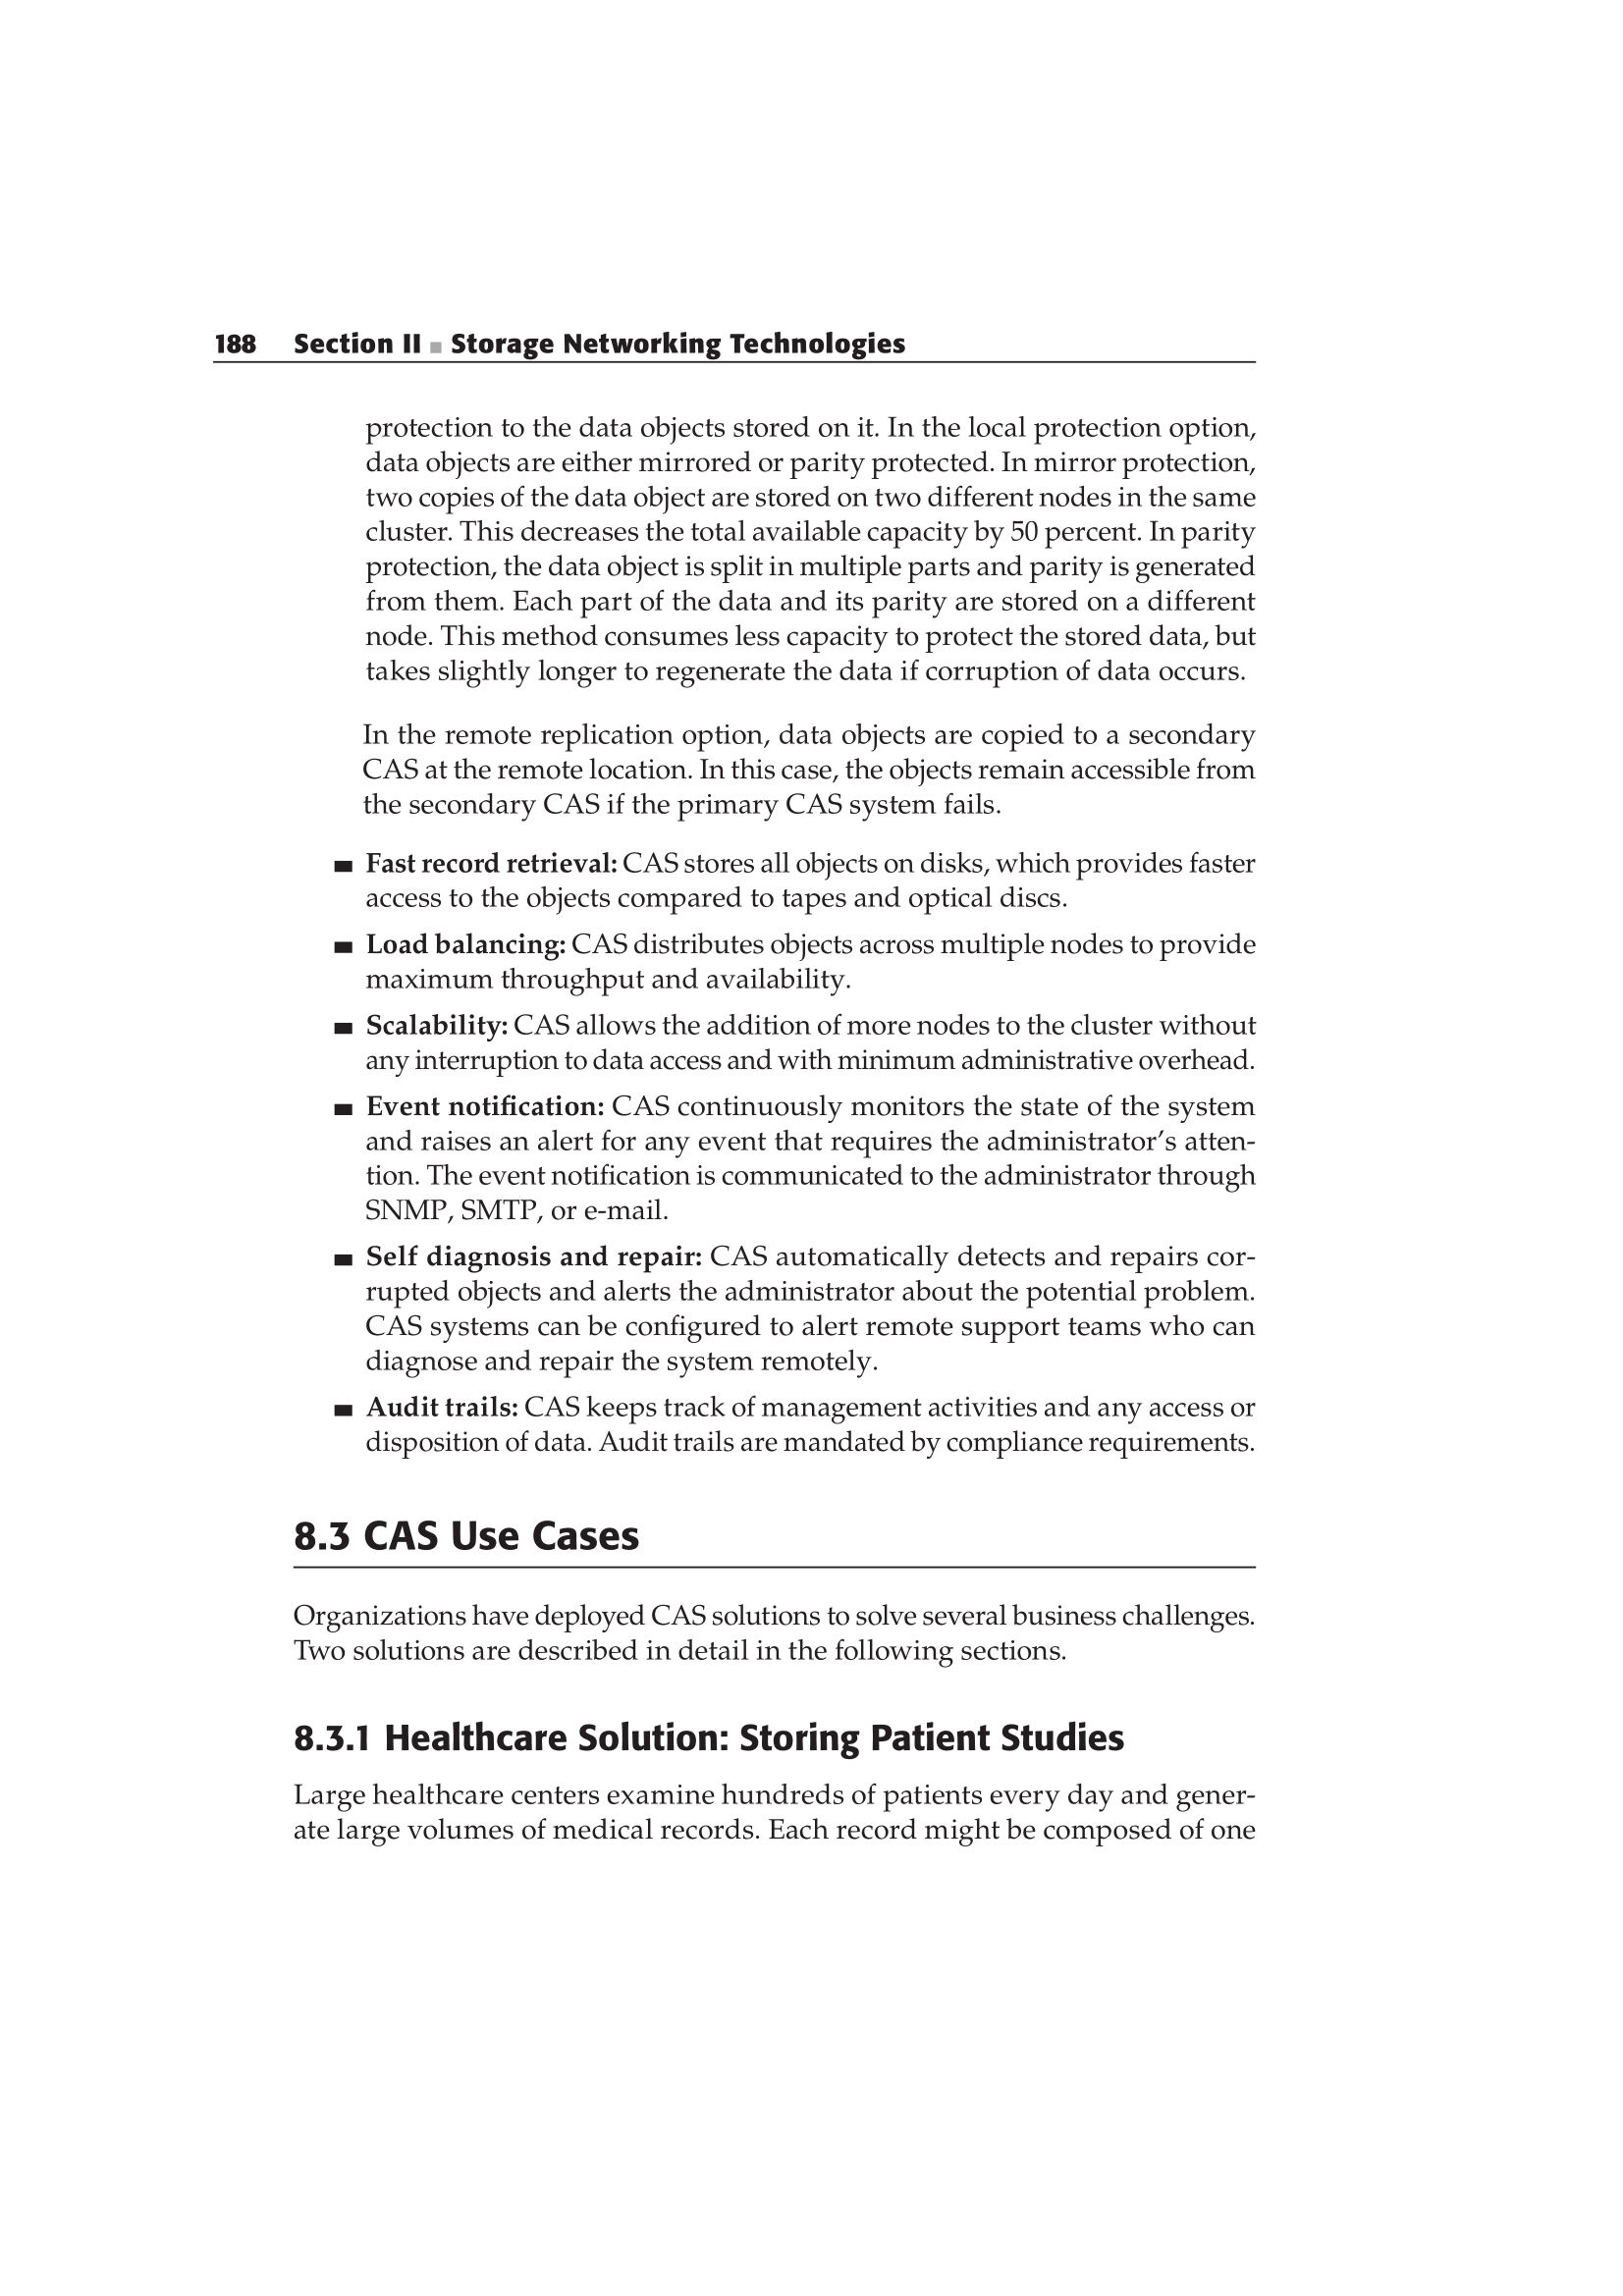Paragraph: (297, 386, 1403, 704), (325, 1231, 1375, 1383), (225, 1097, 1453, 1222), (293, 716, 1316, 825), (227, 1771, 1324, 1871), (209, 1008, 1437, 1090), (197, 923, 1425, 1001), (260, 1583, 1324, 1671), (214, 846, 1442, 913), (278, 1394, 1505, 1460), (249, 1715, 1256, 1769), (184, 311, 1064, 360), (237, 1501, 790, 1566)
